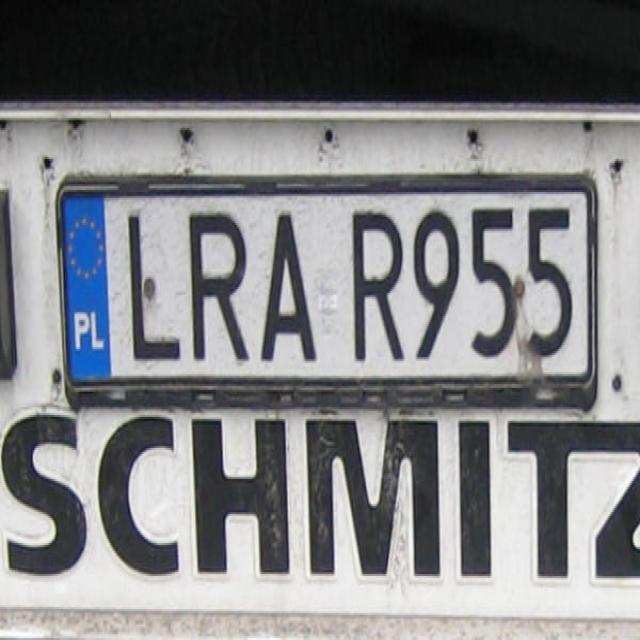pl_license_plate: (63, 192, 589, 376)
